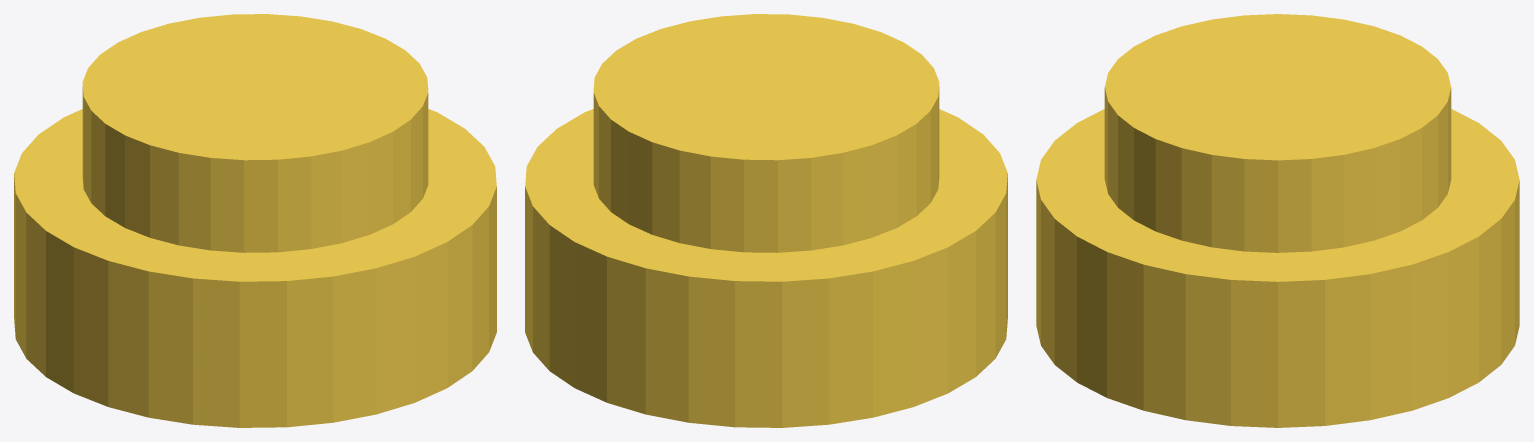
File: map_floor_levelEntry.fbx
3 renders of one model, left to right at view 1: azimuth 30°, elevation 25°; view 2: azimuth 150°, elevation 25°; view 3: azimuth 270°, elevation 25°, orthographic.
Parts seen in each view (by area): view 1: Cylinder.183; view 2: Cylinder.183; view 3: Cylinder.183.
Part boxes in pixels (box(x1,y1,x2,y2)): Cylinder.183: box(14, 14, 496, 427); Cylinder.183: box(525, 14, 1007, 427); Cylinder.183: box(1036, 14, 1519, 427).
Size of the model in its own units: 41.44 by 22.58 by 41.44.
